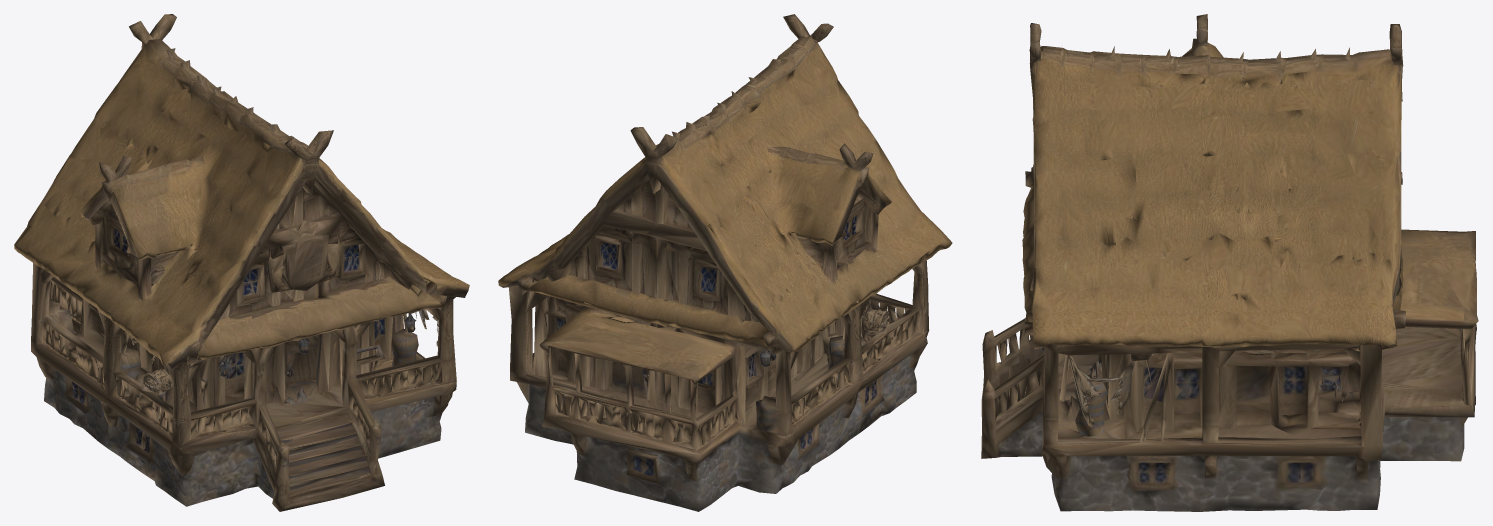
The model's file is gildia_wedkarzy.glb.
3 renders of one model, left to right at view 1: azimuth 30°, elevation 25°; view 2: azimuth 150°, elevation 25°; view 3: azimuth 270°, elevation 25°, orthographic. The views are drawn at different scales.
Visible parts, largest first — view 1: Mesh_0; view 2: Mesh_0; view 3: Mesh_0.
Part boxes in pixels (x1,y1,x2,y2): Mesh_0: (14,14,469,511); Mesh_0: (498,14,952,511); Mesh_0: (981,14,1478,511).
Bounding box in the file's own units: 1.56 × 1.7 × 1.9.
1 material, 1 textured.
